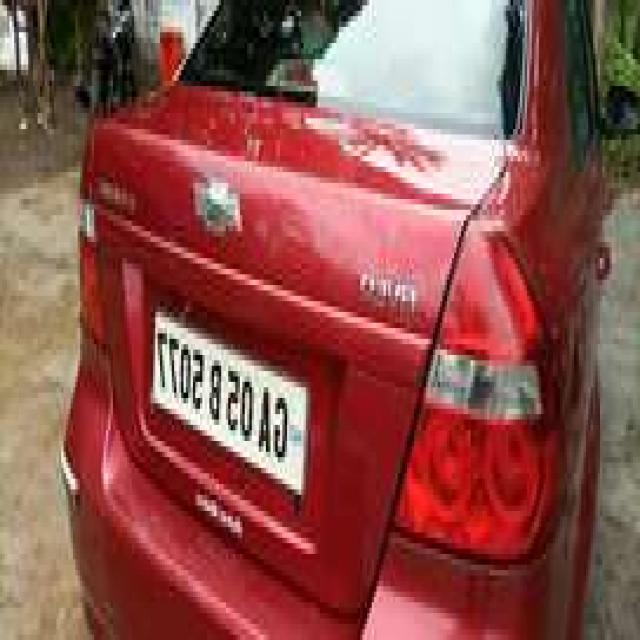license_plate: (147, 304, 311, 510)
